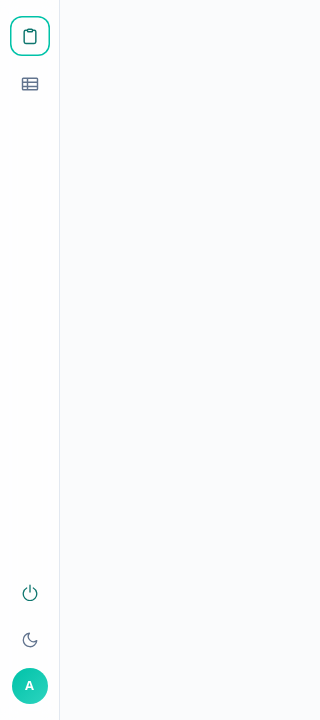
Test: ConsientifyRail › el avatar abre un menú, no cierra sesión de un clic
What coordinates should you click on to do the following:
click the button named "abrir menú de usuario"
I would click on:
 (30, 686)
Its box is [12,668,48,704].
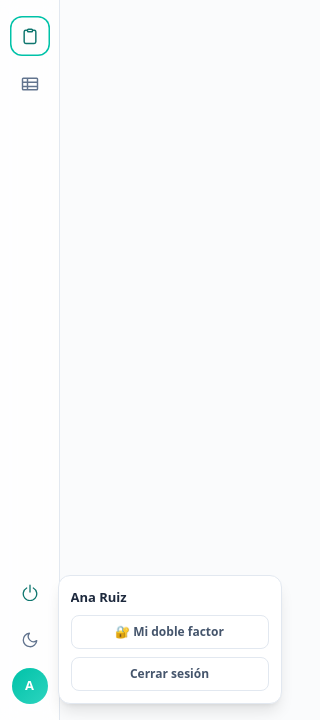
Now the text "Ana Ruiz" is shown, box [70,588,127,606]
